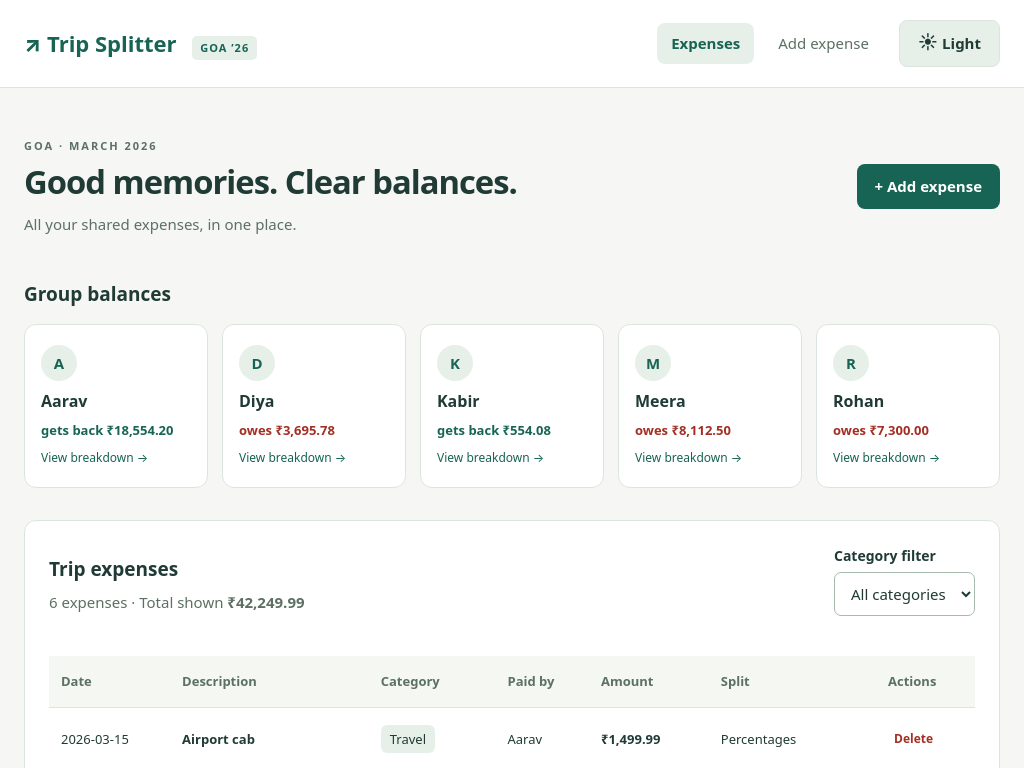
it: opens a member with all expenses even when the table is filtered, and restores focus on close
Select "Other" in the dropdown labelled "Category filter" at (904, 594), box [834,572,975,616]
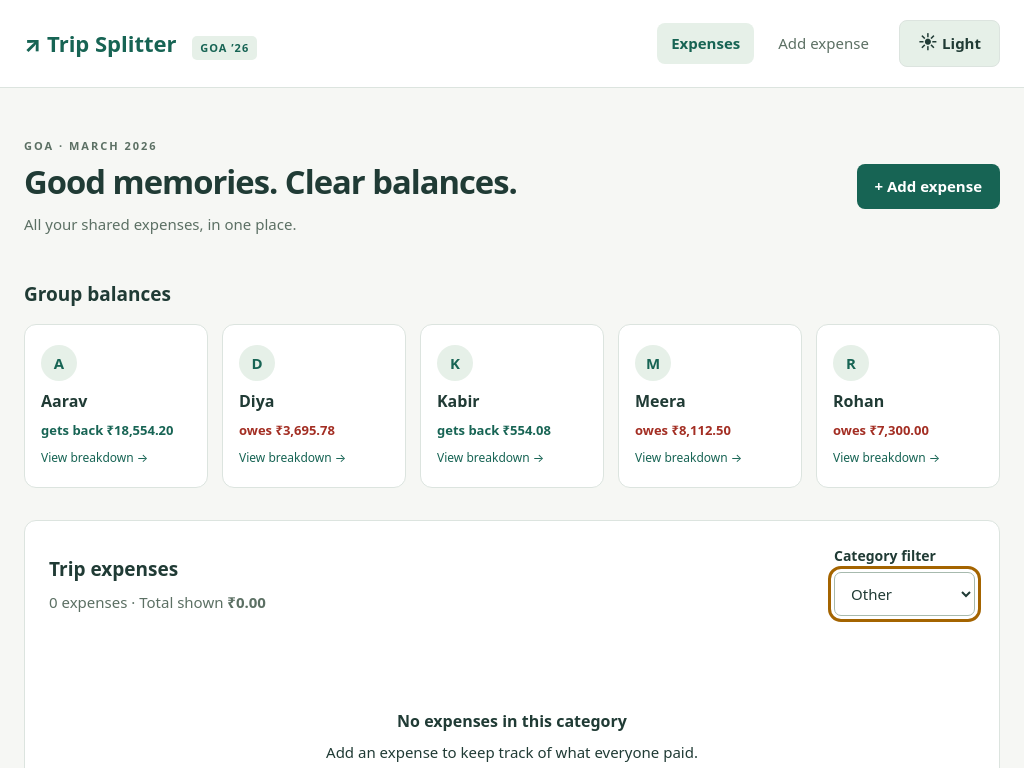
Click the button with aria-label "View Aarav’s financial breakdown" at (64, 401), box [41,389,87,413]
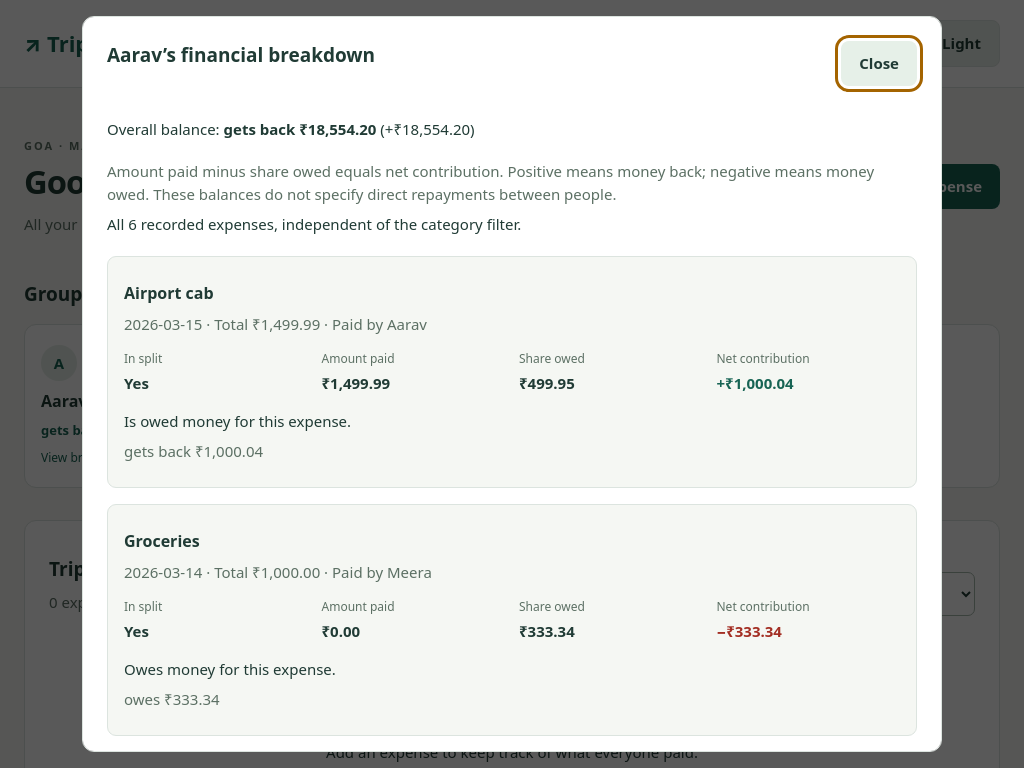
Result: the heading "Groceries" is shown at [124,530,200,552]
Result: the heading "Airport cab" is shown at [124,282,214,304]
Result: the text "gets back ₹18,554.20" is shown at [224,118,376,138]
Press Tab
Press Shift+Tab
Click the button "Close" at (879, 63), box [841,41,917,86]
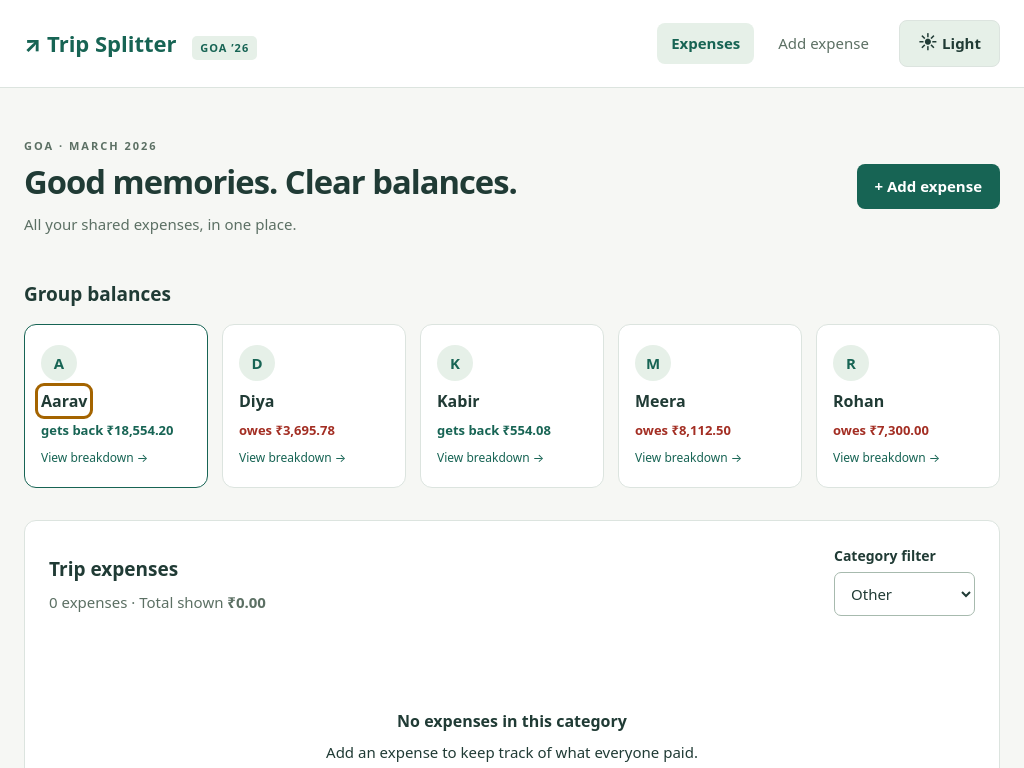
Result: the dialog is gone
